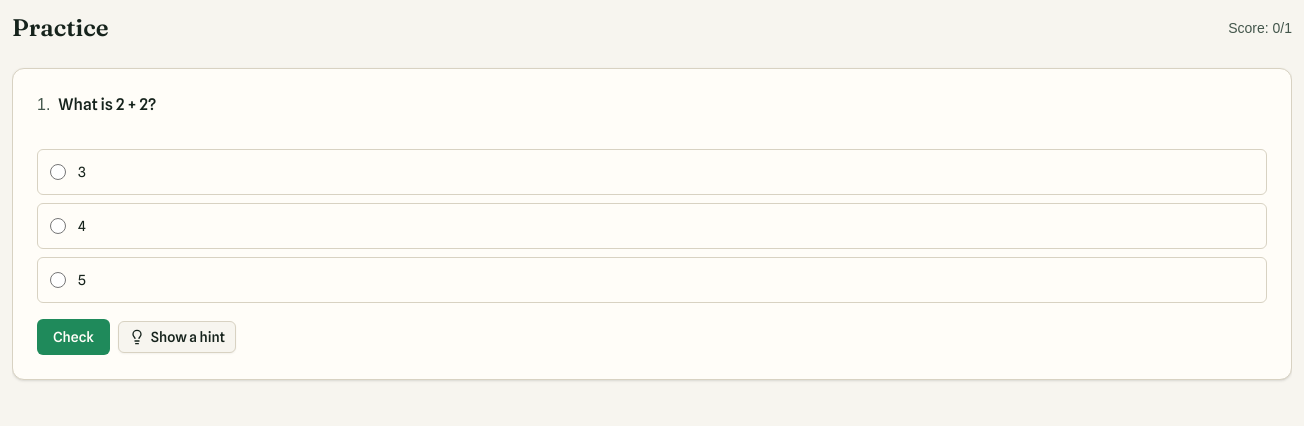
Test: PracticeSet › grades a correct MC answer and advances the score
Check: the text with test id "practice-score" reads "Score: 0/1", box x1=1228 y1=18 x2=1292 y2=38
Step 1. Click the radio button labelled "4" → (58, 226), box x1=50 y1=218 x2=66 y2=234
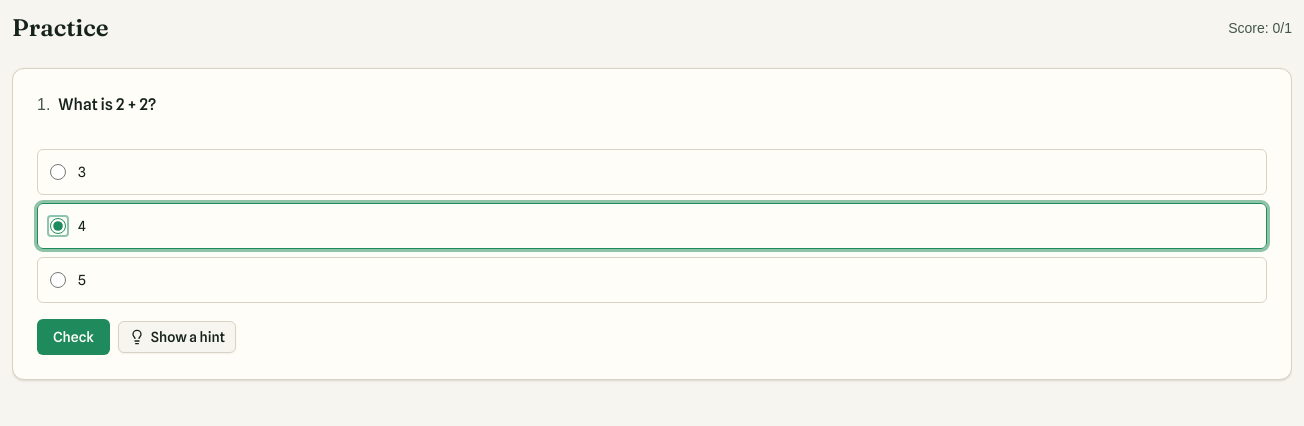
Step 2. Click the button "Check" → (73, 337), box x1=37 y1=319 x2=110 y2=355
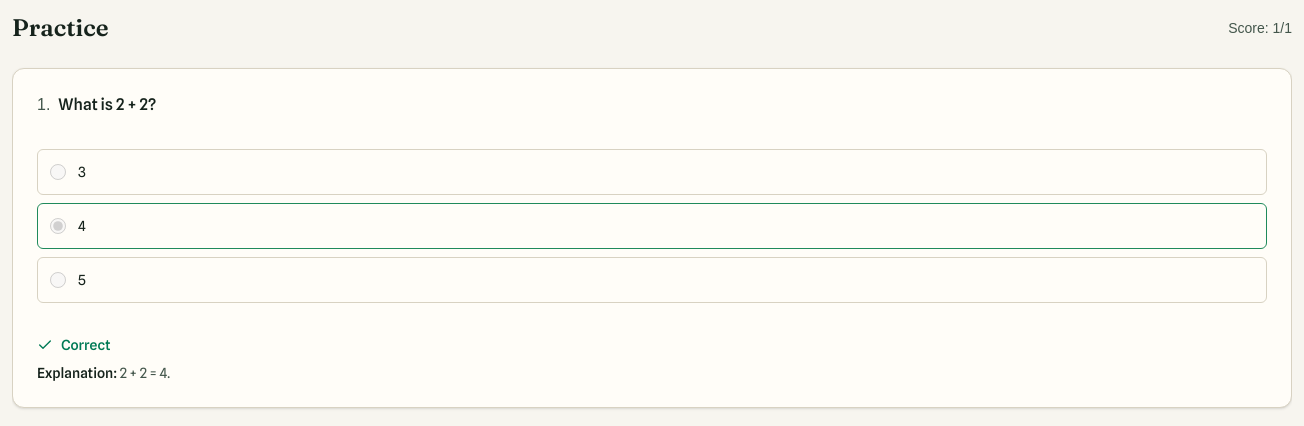
Check: the text "Correct" is shown, box x1=61 y1=335 x2=110 y2=355
Check: the text "Explanation: 2 + 2 = 4." is shown, box x1=37 y1=365 x2=170 y2=381
Check: the text with test id "practice-score" reads "Score: 1/1", box x1=1228 y1=18 x2=1292 y2=38
